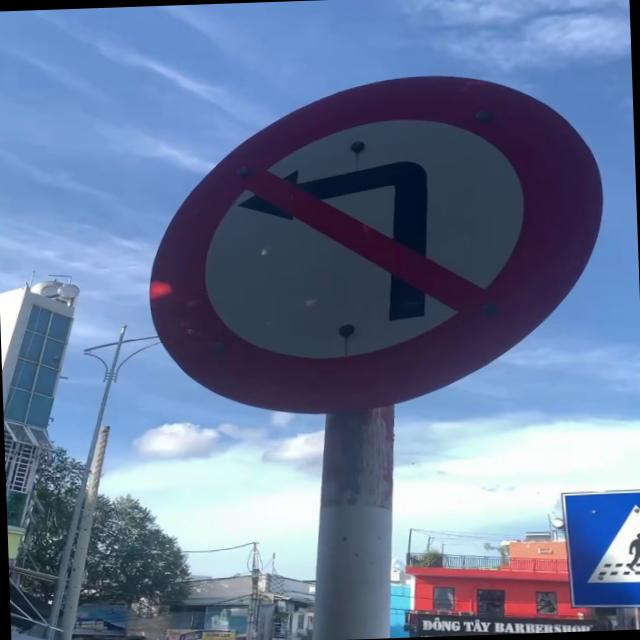Cam_Re_Trai: (135, 66, 620, 426)
